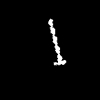half_double_crochet: (49, 19, 65, 64)
